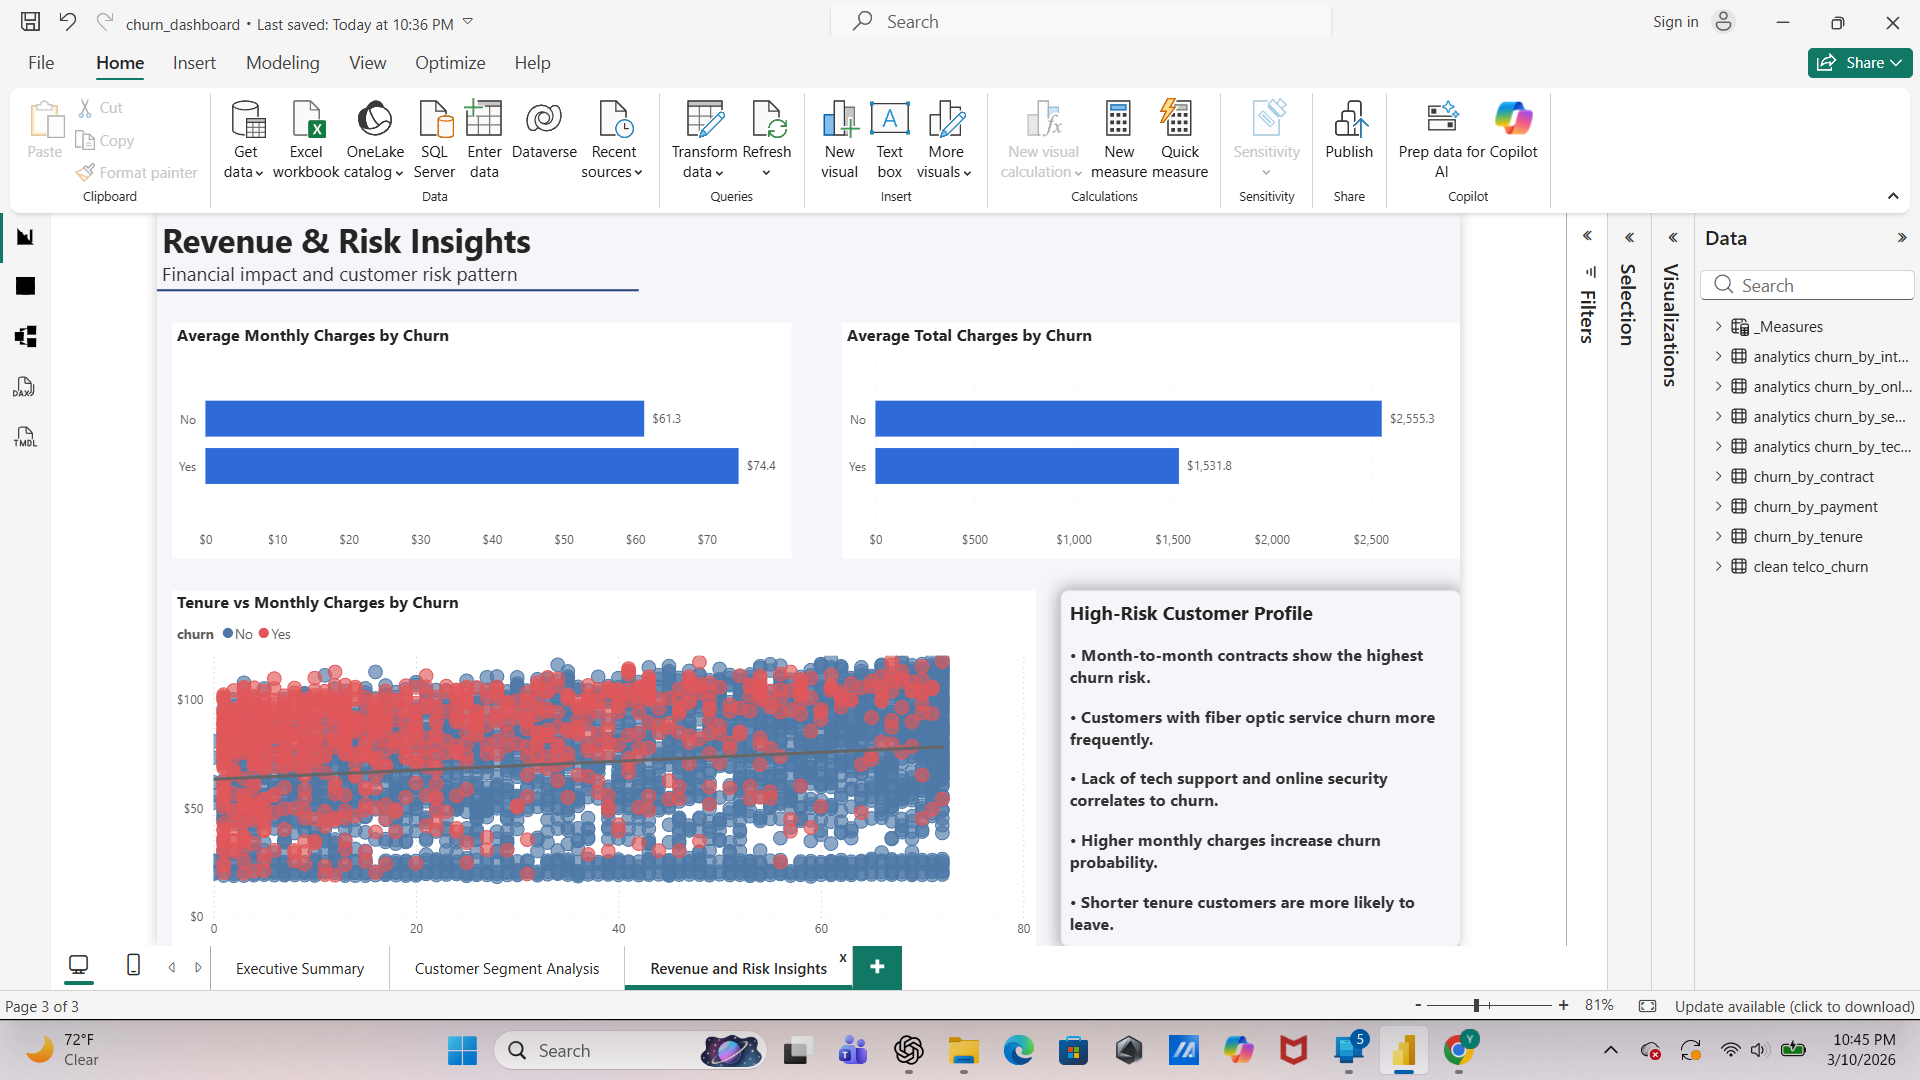

The page's visual inventory and layout, read from the dashboard file:
{"tool":"powerbi","page":{"name":"Revenue and Risk Insights","canvas":[1280,720],"ordinal":2},"visuals":[{"type":"shape","box":[928,384,352,336],"z":0},{"type":"shape","box":[0,0,473,151.7],"z":1000},{"type":"textbox","box":[0,0,472,95],"z":2000},{"type":"clusteredBarChart","title":"Average Monthly Charges by Churn","fields":{"Category":["clean telco_churn.churn"],"Y":["Avg(clean telco_churn.monthly_charges)"]},"box":[15,108,608,231],"z":3000},{"type":"clusteredBarChart","title":"Average Total Charges by Churn","fields":{"Y":["Avg(clean telco_churn.total_charges)"],"Category":["clean telco_churn.churn"]},"box":[672,108,608,231],"z":4000},{"type":"scatterChart","title":"Tenure vs Monthly Charges by Churn","fields":{"X":["clean telco_churn.tenure"],"Y":["clean telco_churn.monthly_charges"],"Series":["clean telco_churn.churn"]},"box":[14.7,370.3,847.9,349.7],"z":5000},{"type":"textbox","box":[887.1,370.3,392.6,349.7],"z":6000}]}

Visuals, with their boxes on the page's 1280x720 design canvas (x1, y1, x2, y2). These are canvas units, not pixel positions in the 1920x1080 screenshot, which may show the page scaled, cropped or inside an application window:
shape: bbox=(928, 384, 1280, 720)
shape: bbox=(0, 0, 473, 152)
textbox: bbox=(0, 0, 472, 95)
"Average Monthly Charges by Churn" clusteredBarChart: bbox=(15, 108, 623, 339)
"Average Total Charges by Churn" clusteredBarChart: bbox=(672, 108, 1280, 339)
"Tenure vs Monthly Charges by Churn" scatterChart: bbox=(15, 370, 863, 720)
textbox: bbox=(887, 370, 1280, 720)
